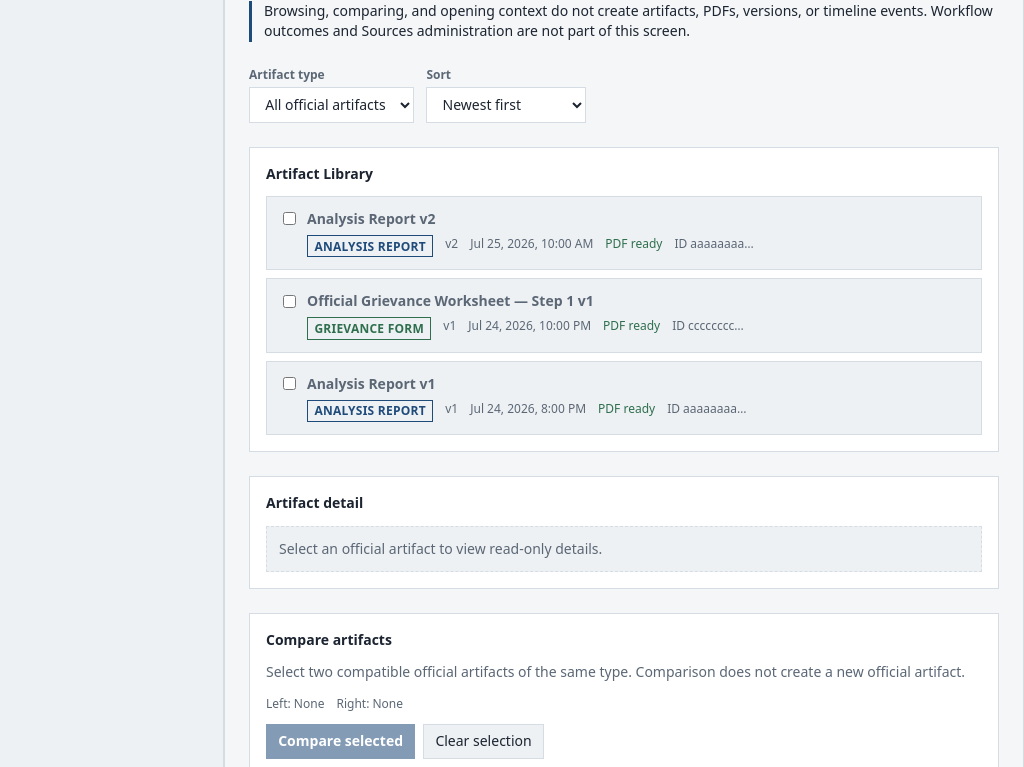
Test: W6 M7 Artifacts & History › compares two compatible artifacts and blocks same-artifact comparison
(page scrolled)
Click the checkbox named "Select Analysis Report v1 for comparison" at point(290, 384), box top-left (283, 377), bottom-right (296, 390)
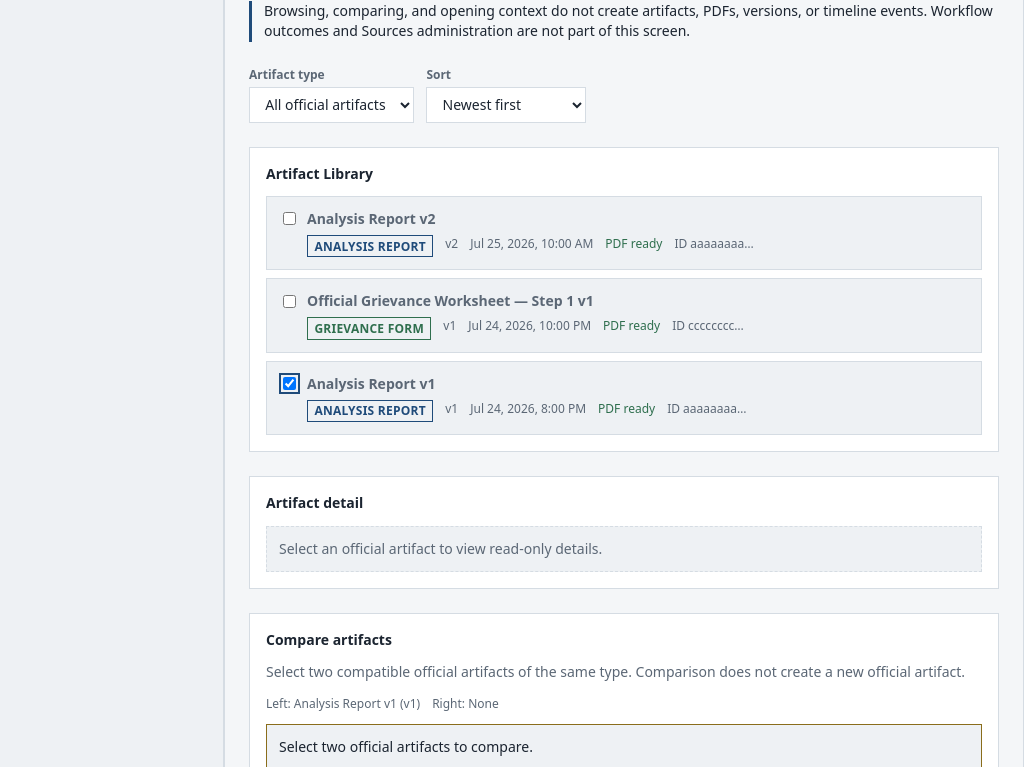
Click the checkbox named "Select Analysis Report v1 for comparison" at point(290, 384), box top-left (283, 377), bottom-right (296, 390)
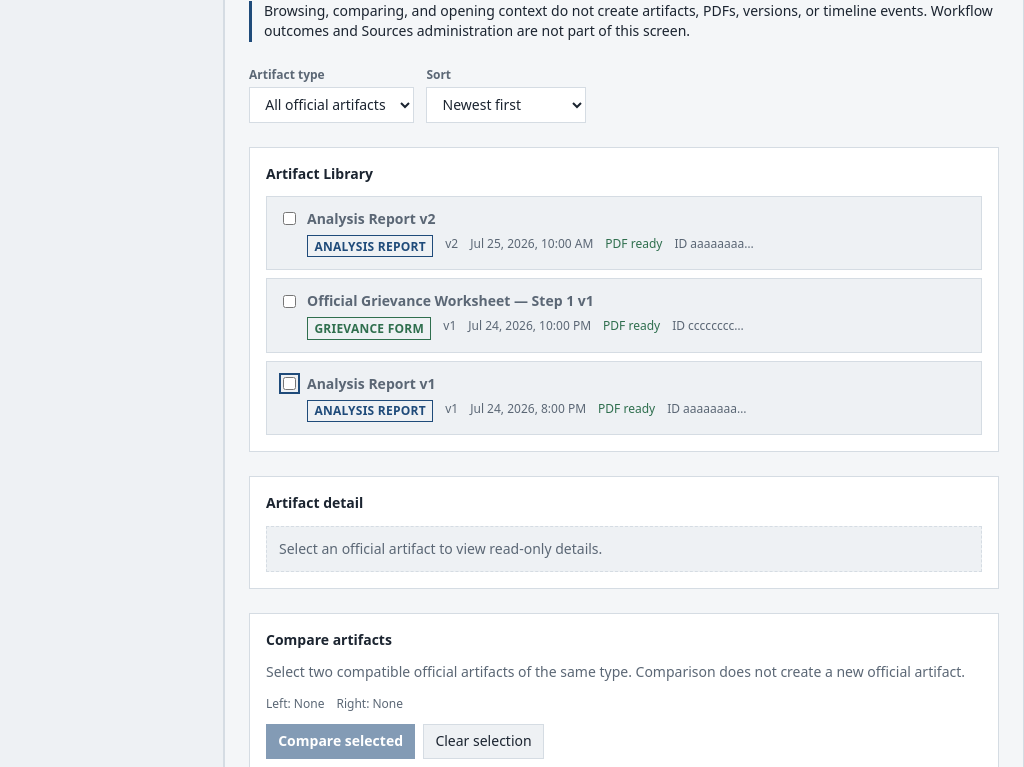
Check: the button "Compare selected" is disabled, box top-left (266, 724), bottom-right (415, 759)
Click the checkbox named "Select Analysis Report v1 for comparison" at point(290, 384), box top-left (283, 377), bottom-right (296, 390)
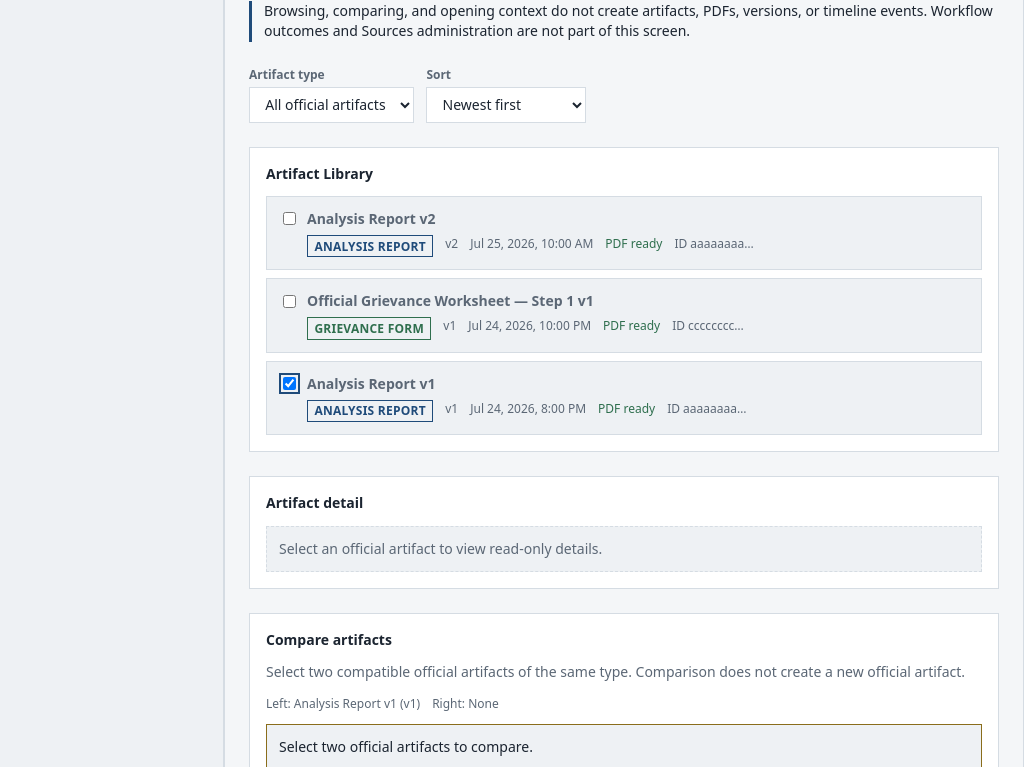
Click the checkbox named "Select Analysis Report v2 for comparison" at point(290, 219), box top-left (283, 212), bottom-right (296, 225)
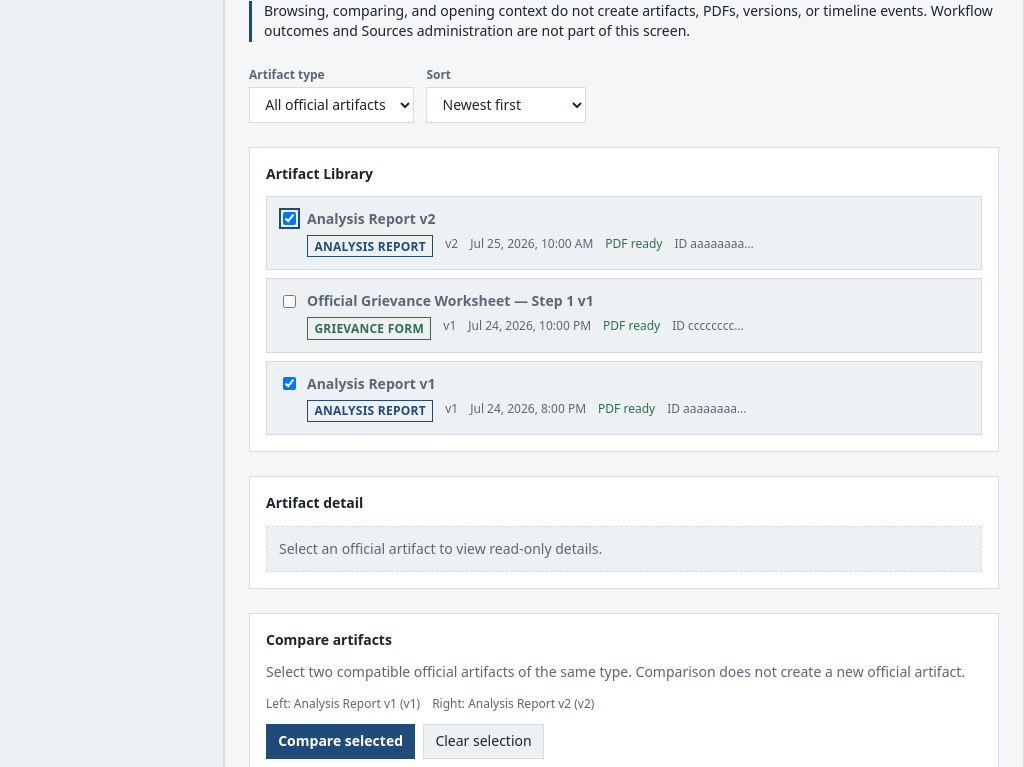
Click the button "Compare selected" at point(341, 742), box top-left (266, 724), bottom-right (415, 759)
(page scrolled)
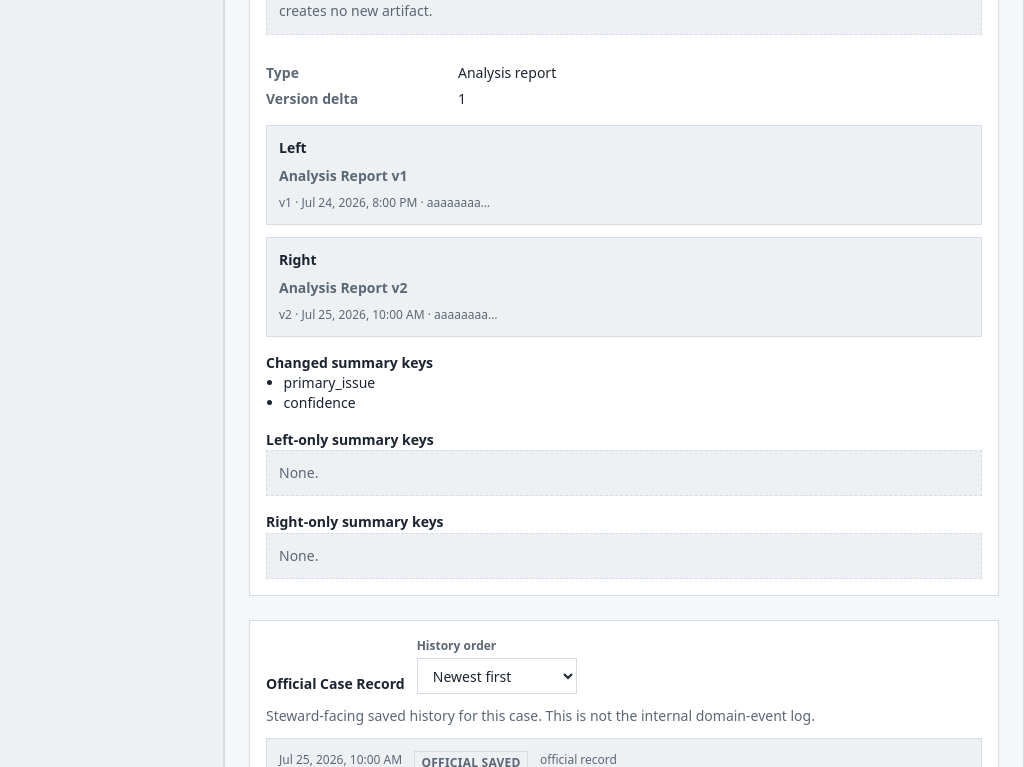
Check: the heading "Changed summary keys" is shown, box top-left (266, 353), bottom-right (433, 372)
Check: the list item "primary_issue" is shown, box top-left (284, 373), bottom-right (375, 392)
